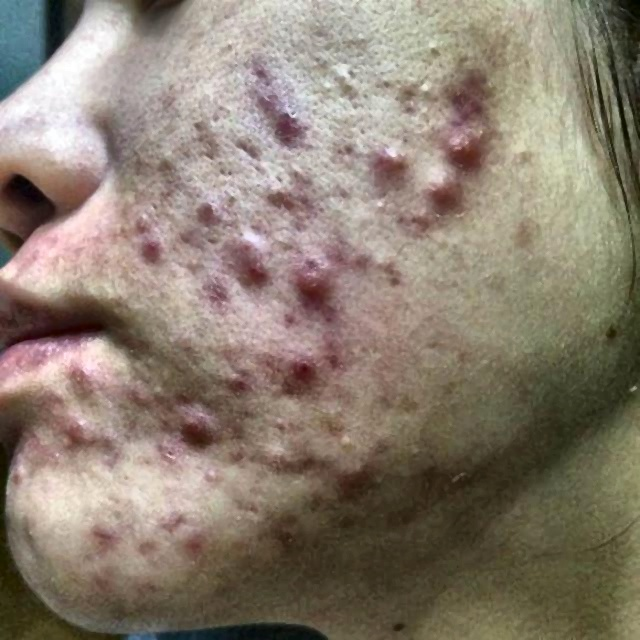nodule: (70, 520, 128, 570), (272, 438, 326, 491), (124, 217, 166, 280), (416, 171, 468, 221), (263, 346, 321, 389), (170, 405, 235, 441), (147, 421, 195, 469), (236, 232, 283, 281), (163, 513, 203, 561), (192, 274, 236, 316), (64, 340, 106, 382), (317, 462, 366, 496), (424, 73, 491, 97), (243, 53, 282, 92), (339, 233, 375, 275), (319, 330, 351, 376), (261, 112, 309, 142), (63, 410, 99, 444), (375, 133, 406, 172), (444, 127, 481, 159), (180, 191, 210, 229), (304, 262, 330, 300), (221, 193, 247, 226), (260, 168, 287, 198), (220, 366, 242, 388), (259, 97, 276, 114)
